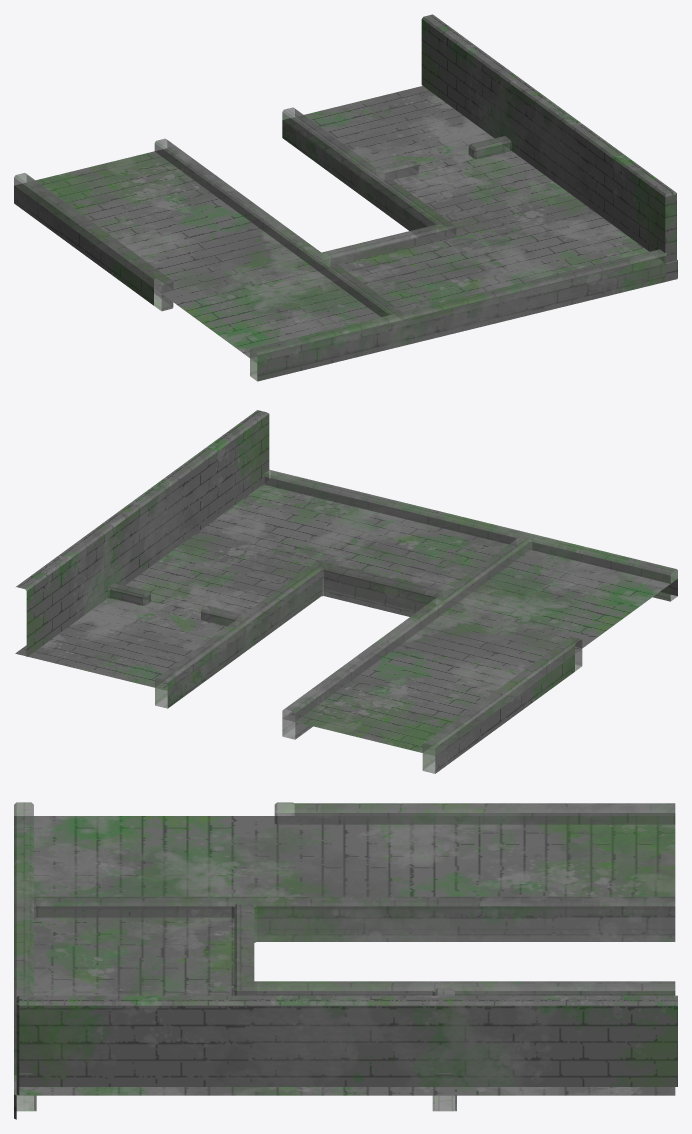
Rendered from lvl_1-cnk_5.obj.
The picture shows the model from 3 angles, top to bottom: view 1: azimuth 30°, elevation 25°; view 2: azimuth 150°, elevation 25°; view 3: azimuth 270°, elevation 25°; orthographic projection. The views are drawn at different scales.
Visible parts, largest first — view 1: Cube.084, Cube.151, Cube.149, Cube.150, Cube.152; view 2: Cube.084, Cube.151, Cube.149, Cube.150, Cube.152; view 3: Cube.084, Cube.149, Cube.151, Cube.150, Cube.152.
Boxes of the visible parts, <box> form: Cube.084: <box>14,86,677,380</box>; Cube.151: <box>154,107,666,381</box>; Cube.149: <box>421,14,676,262</box>; Cube.150: <box>14,173,173,311</box>; Cube.152: <box>468,136,511,158</box>; Cube.084: <box>15,479,677,773</box>; Cube.151: <box>155,469,677,739</box>; Cube.149: <box>16,410,269,656</box>; Cube.150: <box>422,636,582,773</box>; Cube.152: <box>107,583,150,605</box>; Cube.084: <box>14,816,675,1119</box>; Cube.149: <box>16,995,677,1095</box>; Cube.151: <box>14,802,675,1111</box>; Cube.150: <box>274,802,675,824</box>; Cube.152: <box>432,1073,456,1111</box>.
Bounding box in the file's own units: 99 × 19.27 × 99.4.
Materials: 3 (3 with a texture image).
